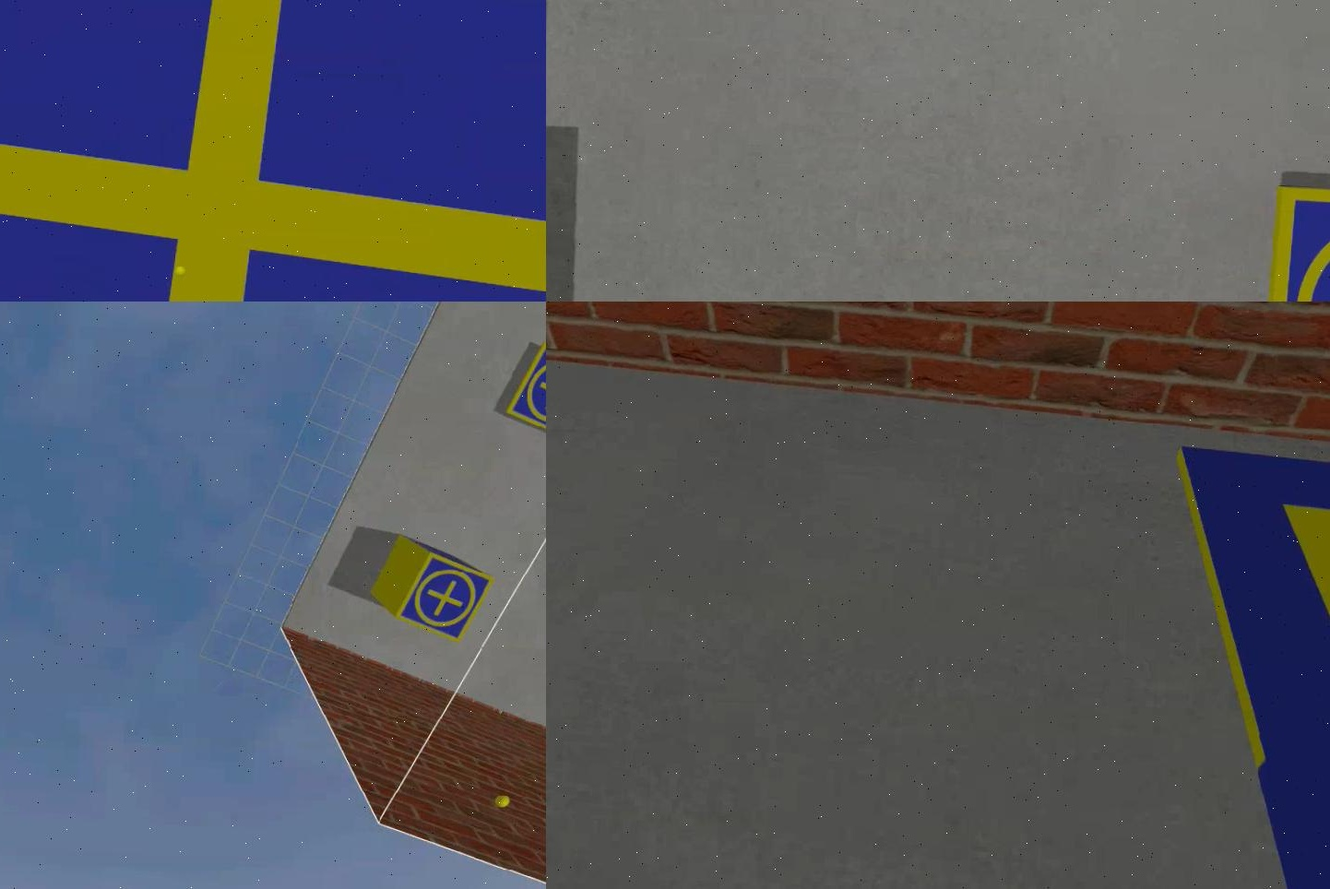large_base: (1160, 445, 1328, 889)
small_base: (0, 1, 545, 302), (393, 552, 491, 643), (500, 341, 545, 439)
